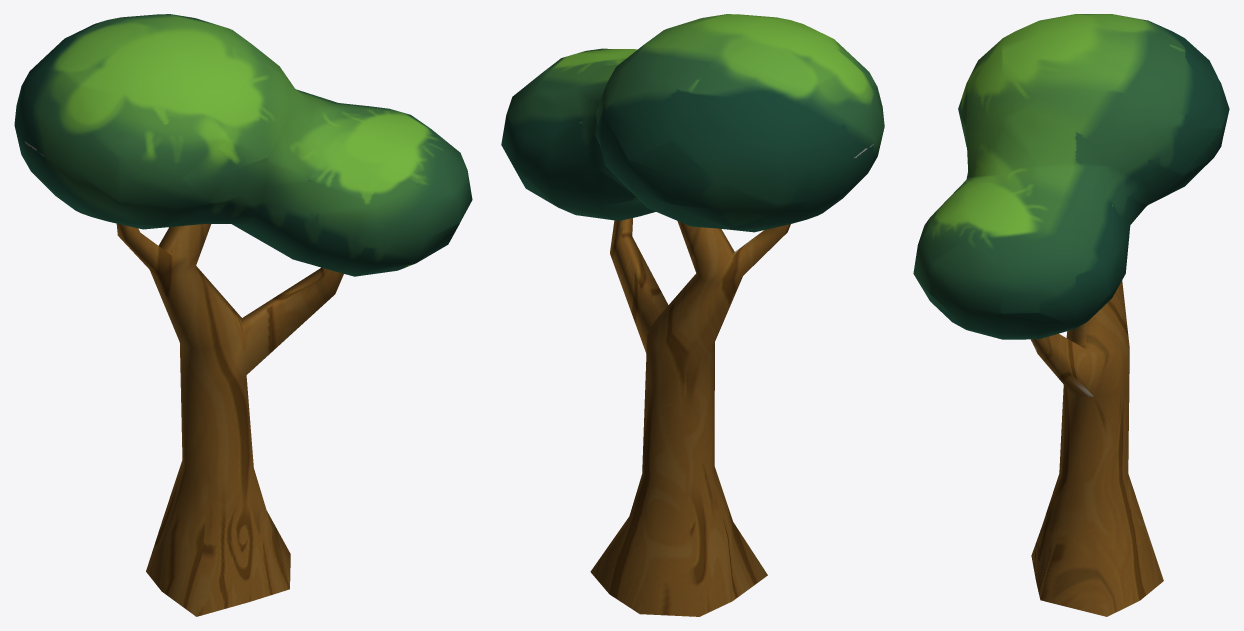
Rendered from tree2.fbx.
The picture shows the model from 3 angles, left to right: view 1: azimuth 30°, elevation 25°; view 2: azimuth 150°, elevation 25°; view 3: azimuth 270°, elevation 25°; orthographic projection. The views are drawn at different scales.
Parts seen in each view (by area): view 1: tree.002; view 2: tree.002; view 3: tree.002.
Part boxes in pixels (<box>): tree.002: <box>14,14,472,616</box>; tree.002: <box>501,14,884,616</box>; tree.002: <box>913,14,1229,616</box>.
Size of the model in its own units: 903 by 1269 by 695.
